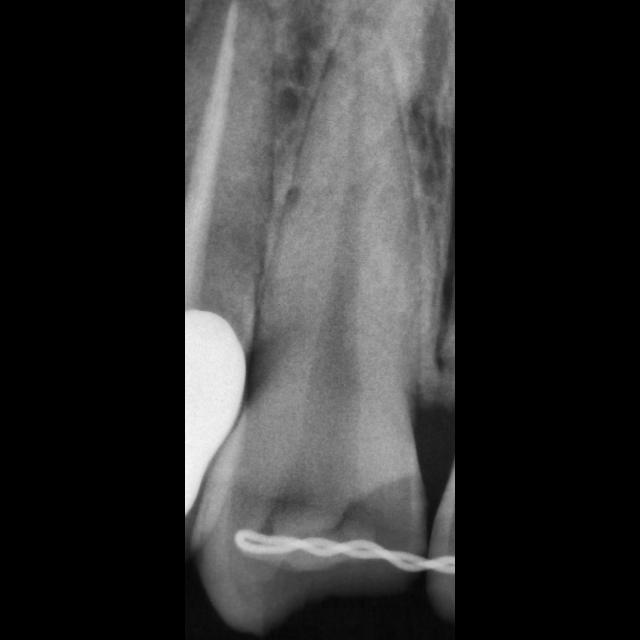tooth: (188, 24, 430, 635)
